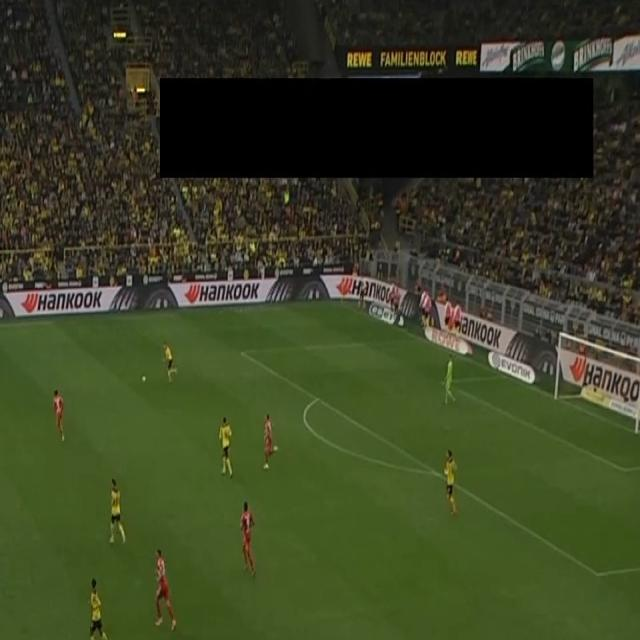ball: (140, 374, 146, 384)
